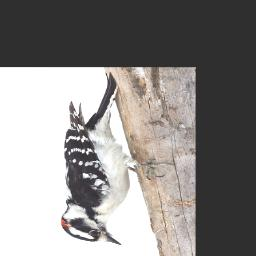Woodpecker: (58, 71, 176, 248)
